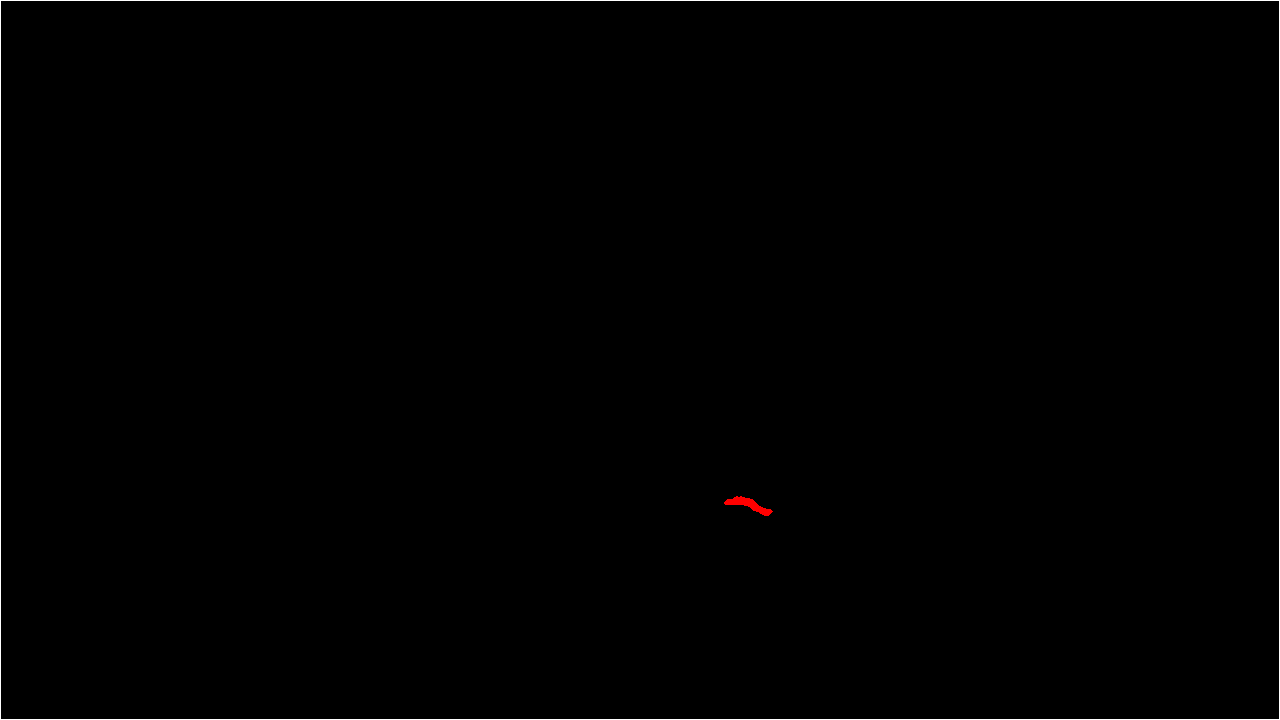drone: (704, 481, 774, 526)
